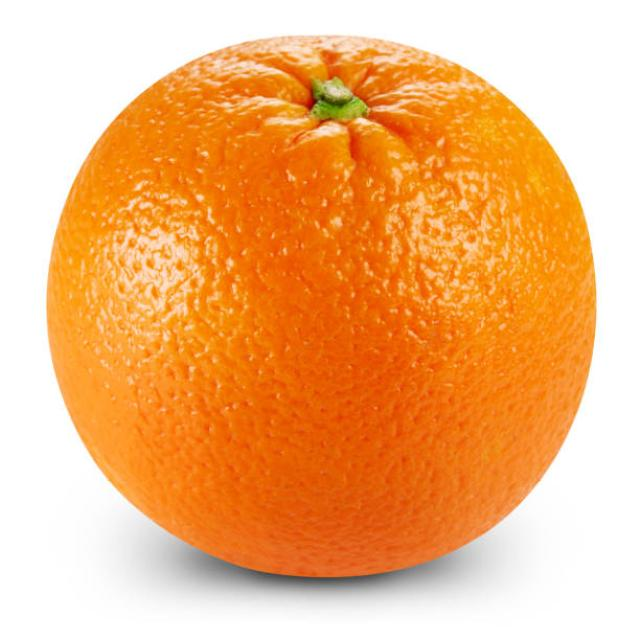Ripe: (38, 29, 603, 574)
